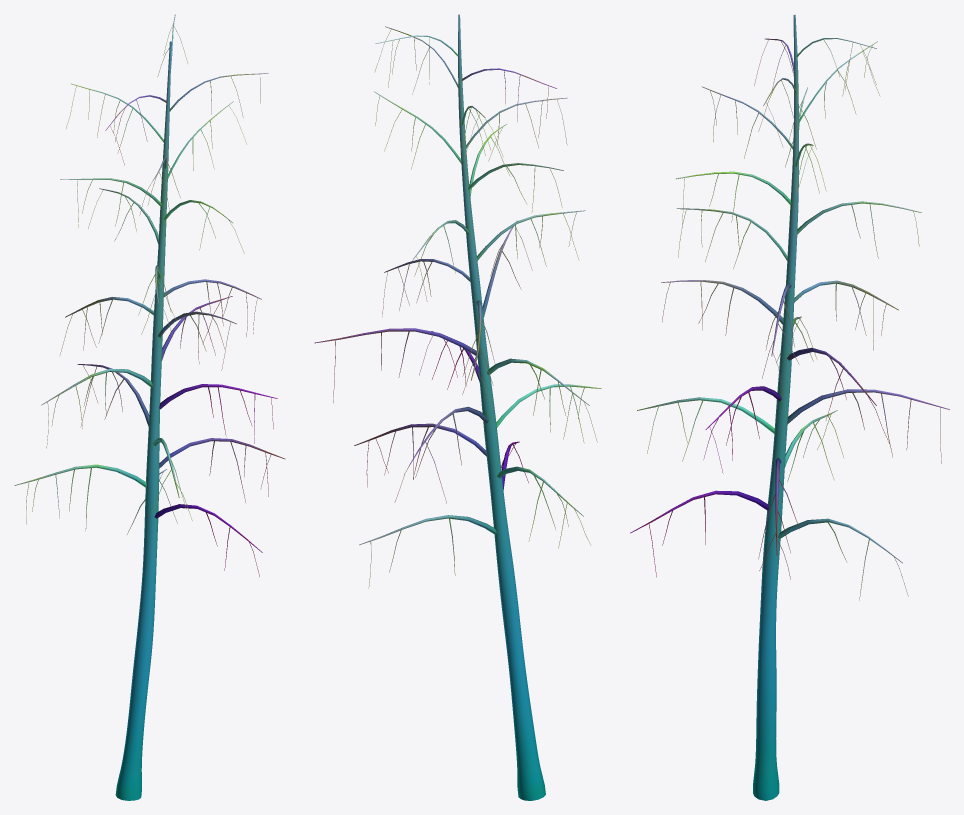
File: birch-a.glb
The picture shows the model from 3 angles, left to right: view 1: azimuth 30°, elevation 25°; view 2: azimuth 150°, elevation 25°; view 3: azimuth 270°, elevation 25°; orthographic projection. The views are drawn at different scales.
Visible parts, largest first — view 1: bark; view 2: bark; view 3: bark.
Boxes of the visible parts, x1,y1,x2,y2 form: bark: (14, 14, 285, 800); bark: (314, 14, 601, 800); bark: (630, 14, 949, 800).
Bounding box in the file's own units: 6.18 × 17.76 × 6.36.
